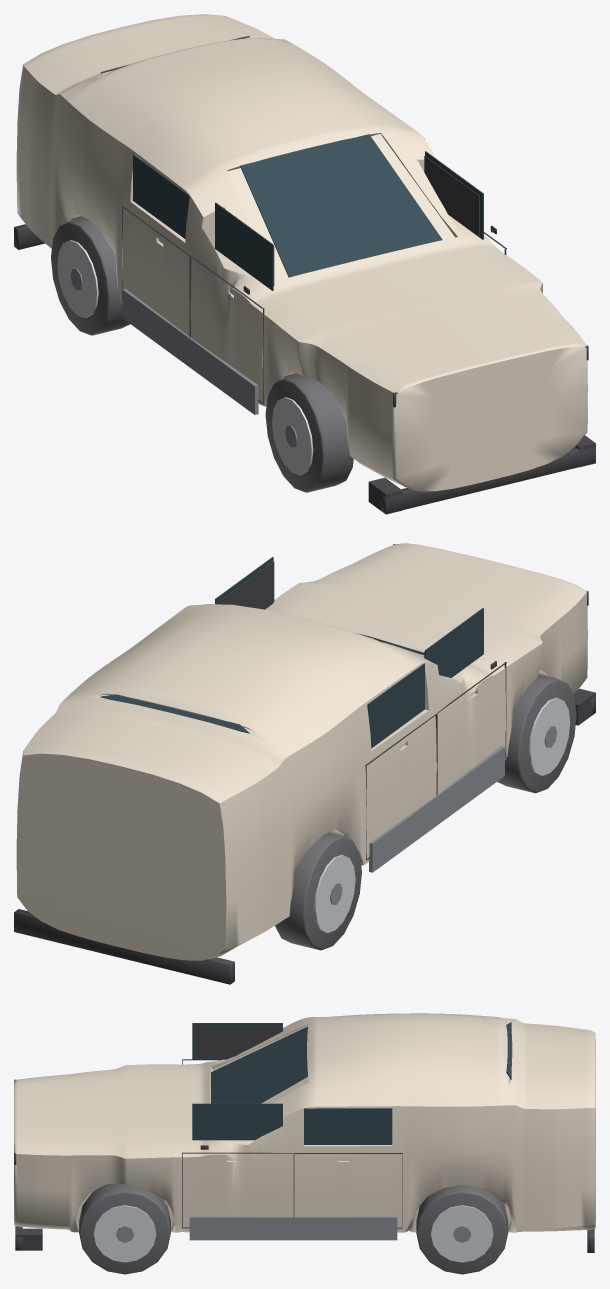
File: Crossover_Compact_23.fbx
3 renders of one model, top to bottom at view 1: azimuth 30°, elevation 25°; view 2: azimuth 150°, elevation 25°; view 3: azimuth 270°, elevation 25°, orthographic. The views are drawn at different scales.
Visible parts, largest first — view 1: LOD0; view 2: LOD0; view 3: LOD0.
Boxes of the visible parts, box(x1,y1,x2,y2) form: LOD0: box(14, 14, 595, 514); LOD0: box(14, 543, 595, 984); LOD0: box(14, 1013, 595, 1274).
Size of what is drawn, in the model's own units: 189 by 168 by 466.
